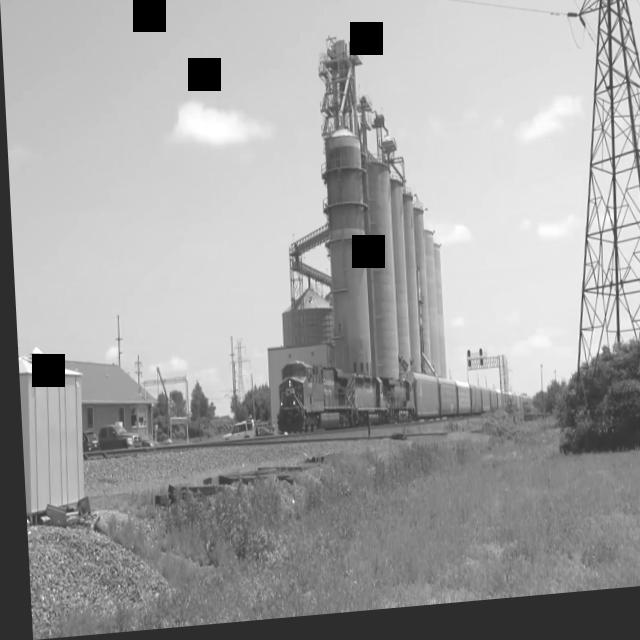autorack: (404, 375, 436, 430), (433, 382, 454, 432)
locomotive: (268, 358, 348, 447), (346, 375, 381, 437), (377, 377, 411, 435)
